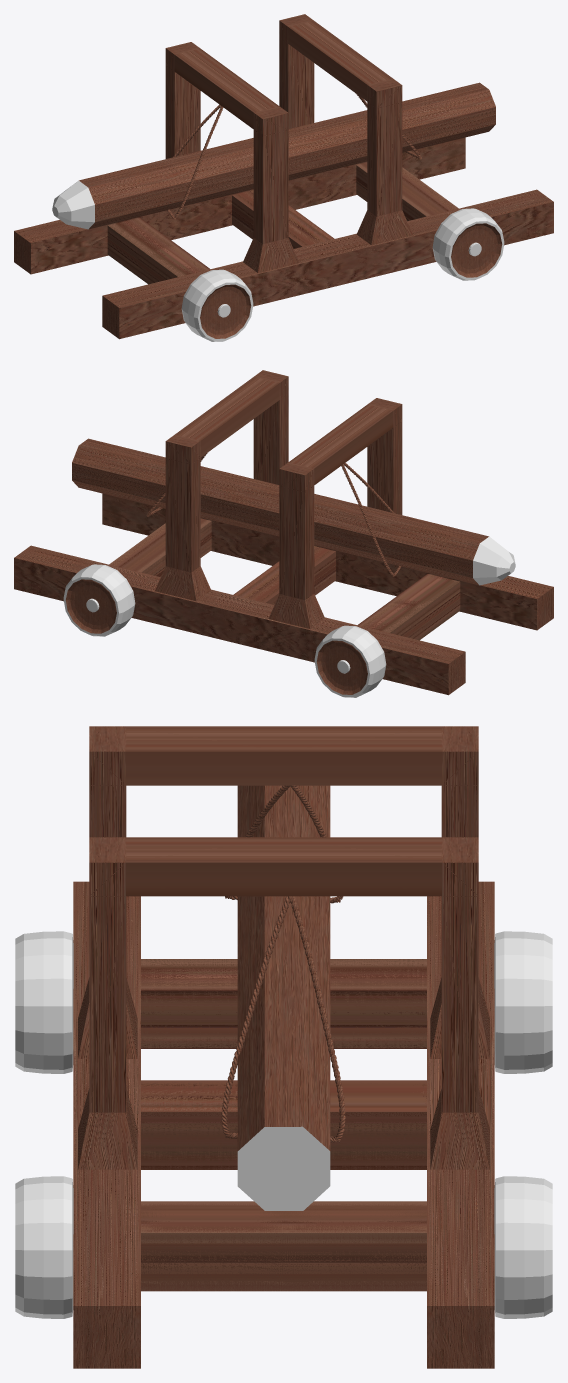
File: StormRam.fbx
3 renders of one model, top to bottom at view 1: azimuth 30°, elevation 25°; view 2: azimuth 150°, elevation 25°; view 3: azimuth 270°, elevation 25°, orthographic. The views are drawn at different scales.
Visible parts, largest first — view 1: Cube.001; view 2: Cube.001; view 3: Cube.001.
Part boxes in pixels (x1=…): Cube.001: x1=14, y1=14, x2=553, y2=341; Cube.001: x1=14, y1=370, x2=553, y2=697; Cube.001: x1=15, y1=726, x2=552, y2=1368.
Size of the model in its own units: 2051 by 869 by 1070.
2 materials, 1 textured.
